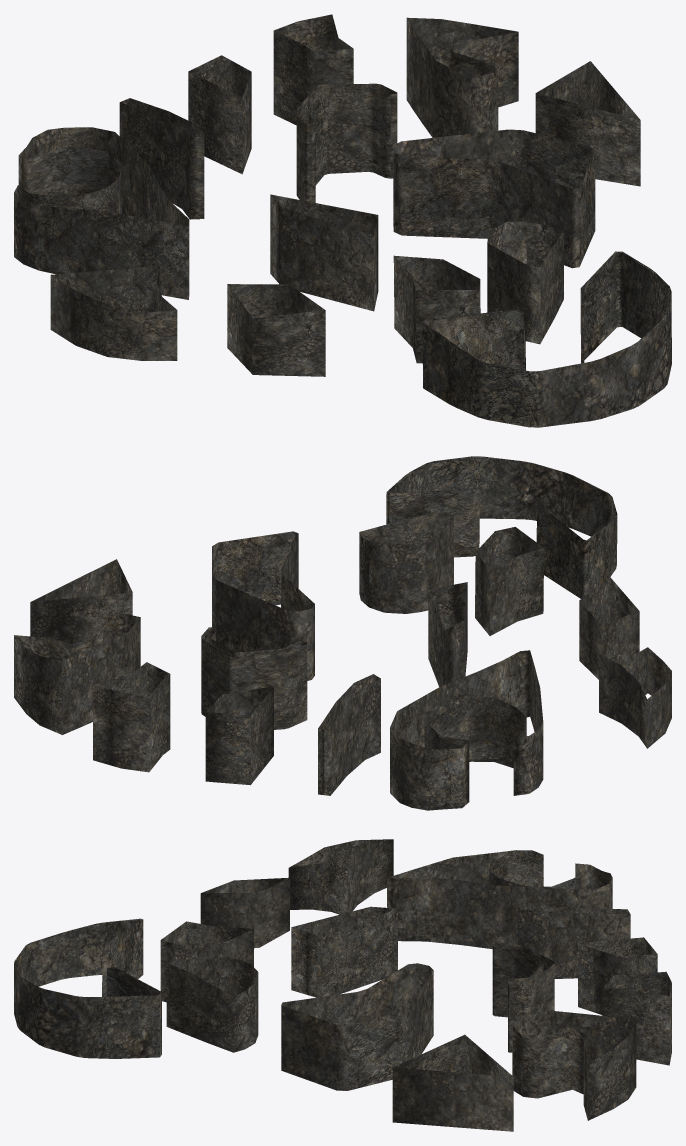
Rendered from Rock7.fbx.
3 renders of one model, top to bottom at view 1: azimuth 30°, elevation 25°; view 2: azimuth 150°, elevation 25°; view 3: azimuth 270°, elevation 25°, orthographic. The views are drawn at different scales.
Parts seen in each view (by area): view 1: Rock7:Rock7:Wall6, Rock7:Rock7:Wall8, Rock7:Rock7:Wall1, Rock7:Rock7:Wall4, Rock7:Rock7:Wall5, Rock7:Rock7:Wall12, Rock7:Rock7:Wall3, Rock7:Rock7:Wall11, Rock7:Rock7:Wall2, Rock7:Rock7:Wall14, Rock7:Rock7:Wall7, Rock7:Rock7:Wall10 (+2 smaller); view 2: Rock7:Rock7:Wall6, Rock7:Rock7:Wall8, Rock7:Rock7:Wall1, Rock7:Rock7:Wall4, Rock7:Rock7:Wall14, Rock7:Rock7:Wall10, Rock7:Rock7:Wall3, Rock7:Rock7:Wall13, Rock7:Rock7:Wall9, Rock7:Rock7:Wall5, Rock7:Rock7:Wall2, Rock7:Rock7:Wall7 (+2 smaller); view 3: Rock7:Rock7:Wall6, Rock7:Rock7:Wall8, Rock7:Rock7:Wall1, Rock7:Rock7:Wall4, Rock7:Rock7:Wall2, Rock7:Rock7:Wall12, Rock7:Rock7:Wall14, Rock7:Rock7:Wall5, Rock7:Rock7:Wall7, Rock7:Rock7:Wall10, Rock7:Rock7:Wall11, Rock7:Rock7:Wall3 (+2 smaller).
Part boxes in pixels (x1,y1,x2,y2): Rock7:Rock7:Wall6: [422, 251, 671, 427]; Rock7:Rock7:Wall8: [14, 127, 189, 299]; Rock7:Rock7:Wall1: [393, 129, 595, 268]; Rock7:Rock7:Wall4: [406, 17, 518, 137]; Rock7:Rock7:Wall5: [50, 266, 177, 360]; Rock7:Rock7:Wall12: [270, 194, 378, 311]; Rock7:Rock7:Wall3: [296, 83, 397, 202]; Rock7:Rock7:Wall11: [227, 284, 325, 376]; Rock7:Rock7:Wall2: [535, 61, 640, 186]; Rock7:Rock7:Wall14: [487, 221, 563, 344]; Rock7:Rock7:Wall7: [119, 98, 204, 219]; Rock7:Rock7:Wall10: [273, 14, 353, 125]; Rock7:Rock7:Wall6: [386, 456, 617, 598]; Rock7:Rock7:Wall8: [390, 650, 543, 810]; Rock7:Rock7:Wall1: [212, 531, 314, 680]; Rock7:Rock7:Wall4: [14, 613, 140, 734]; Rock7:Rock7:Wall14: [359, 511, 453, 613]; Rock7:Rock7:Wall10: [93, 662, 170, 772]; Rock7:Rock7:Wall3: [201, 627, 307, 729]; Rock7:Rock7:Wall13: [475, 527, 543, 635]; Rock7:Rock7:Wall9: [205, 686, 273, 785]; Rock7:Rock7:Wall5: [599, 647, 671, 748]; Rock7:Rock7:Wall2: [30, 559, 132, 644]; Rock7:Rock7:Wall7: [318, 674, 380, 795]; Rock7:Rock7:Wall6: [14, 918, 161, 1058]; Rock7:Rock7:Wall8: [387, 850, 612, 948]; Rock7:Rock7:Wall1: [281, 963, 433, 1090]; Rock7:Rock7:Wall4: [512, 1010, 636, 1120]; Rock7:Rock7:Wall2: [392, 1034, 513, 1131]; Rock7:Rock7:Wall12: [291, 906, 397, 997]; Rock7:Rock7:Wall14: [166, 957, 258, 1052]; Rock7:Rock7:Wall5: [288, 839, 393, 914]; Rock7:Rock7:Wall7: [518, 904, 630, 978]; Rock7:Rock7:Wall10: [602, 971, 671, 1065]; Rock7:Rock7:Wall11: [200, 877, 289, 948]; Rock7:Rock7:Wall3: [492, 942, 554, 1052].
Size of the model in its own units: 715 by 94.5 by 804.
